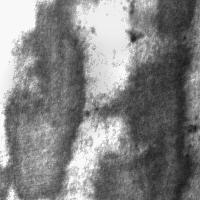patches: (103, 1, 190, 198), (7, 1, 87, 198), (10, 39, 112, 141), (59, 0, 163, 52), (145, 151, 200, 200)
